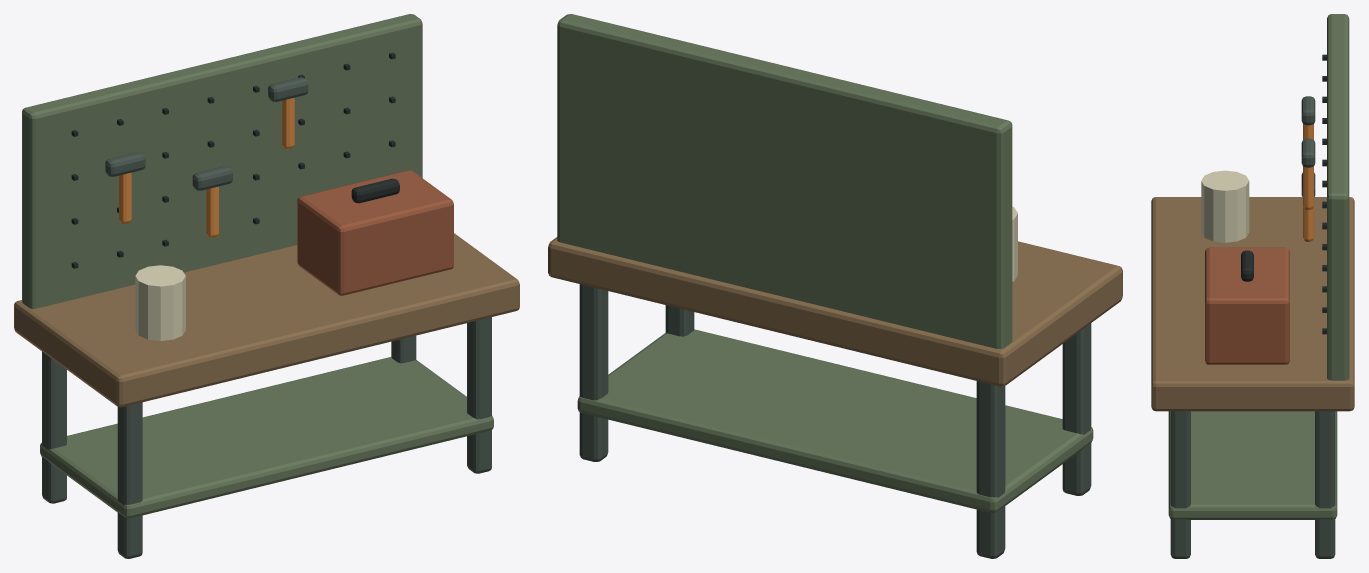
File: workbench.glb
3 views of the same model, side by side, from view 1: azimuth 30°, elevation 25°; view 2: azimuth 150°, elevation 25°; view 3: azimuth 270°, elevation 25° (orthographic). The views are drawn at different scales.
Visible parts, largest first — view 1: pegboard, table_top, shelf, toolbox, leg, tin, leg.002, leg.001, toolbox_handle, tool_head.001, tool_head, tool_head.002 (+4 smaller); view 2: pegboard, shelf, table_top, leg.001, leg.003, leg, leg.002; view 3: table_top, shelf, toolbox, pegboard, tin, leg.002, leg.003, tool_handle.002, tool_head, tool_head.002, toolbox_handle, tool_handle.001.
Part boxes in pixels (x1,y1,x2,y2): pegboard: (22, 14, 422, 308); table_top: (14, 233, 519, 407); shelf: (40, 357, 493, 518); toolbox: (297, 170, 453, 295); leg: (117, 402, 142, 558); tin: (135, 265, 185, 340); leg.002: (467, 317, 491, 473); leg.001: (42, 351, 66, 503); toolbox_handle: (351, 178, 399, 203); tool_head.001: (192, 166, 232, 190); tool_head: (105, 152, 145, 176); tool_head.002: (268, 77, 308, 101); pegboard: (557, 14, 1012, 348); shelf: (577, 329, 1093, 512); table_top: (548, 237, 1122, 386); leg.001: (976, 381, 1005, 558); leg.003: (579, 284, 608, 461); leg: (1062, 323, 1091, 495); leg.002: (665, 305, 694, 336); table_top: (1151, 197, 1354, 411); shelf: (1168, 411, 1337, 519); toolbox: (1205, 247, 1289, 364); pegboard: (1327, 14, 1349, 380); tin: (1201, 170, 1249, 242); leg.002: (1170, 411, 1190, 558); leg.003: (1315, 411, 1335, 558); tool_handle.002: (1303, 166, 1313, 209); tool_head: (1301, 96, 1315, 125); tool_head.002: (1301, 138, 1315, 167); toolbox_handle: (1241, 250, 1253, 281); tool_handle.001: (1303, 206, 1313, 241).
Size of the model in its own units: 2.4 by 2.21 by 1.1.
